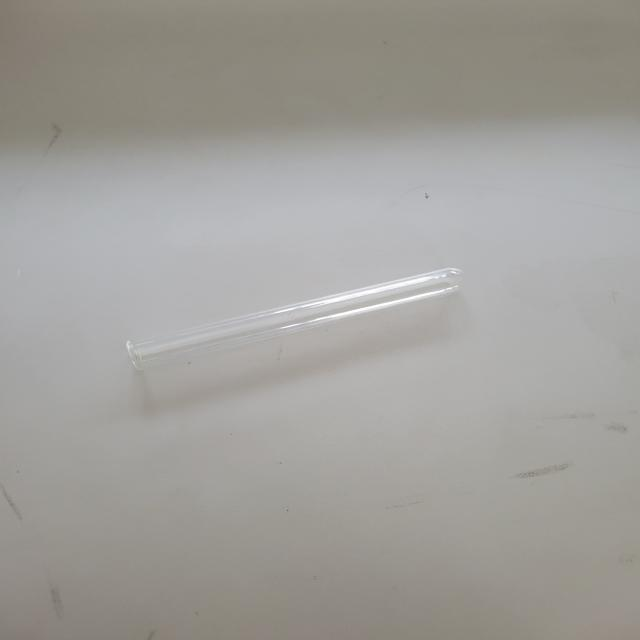Test_Tube: (94, 243, 472, 402)
